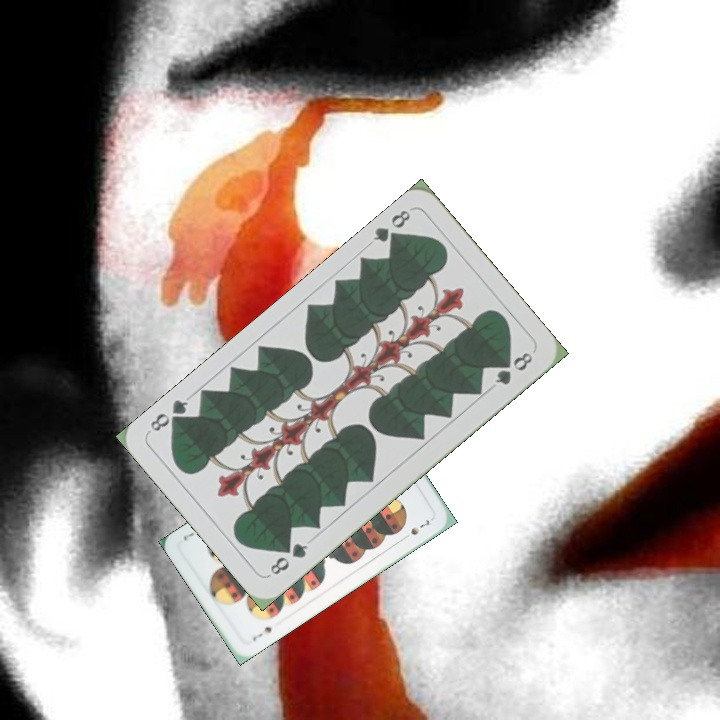G8: (369, 205, 413, 249), (265, 538, 311, 578)
S7: (248, 622, 274, 644)
